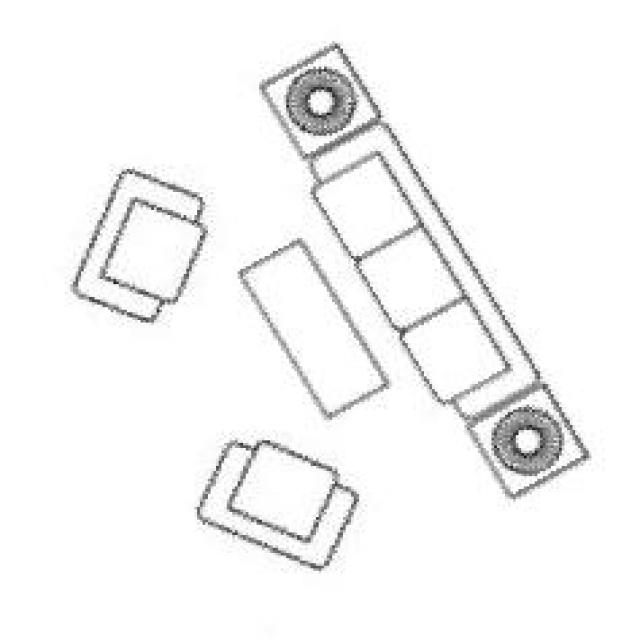sofa: (68, 39, 592, 574)
